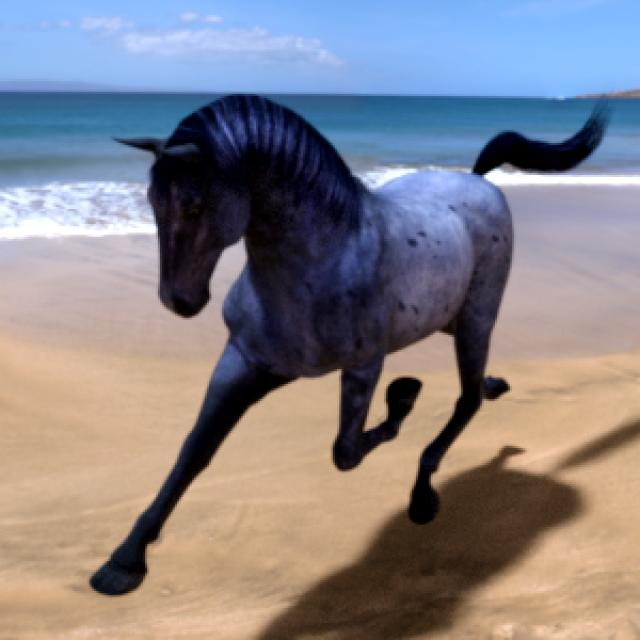horse: (91, 95, 604, 594)
